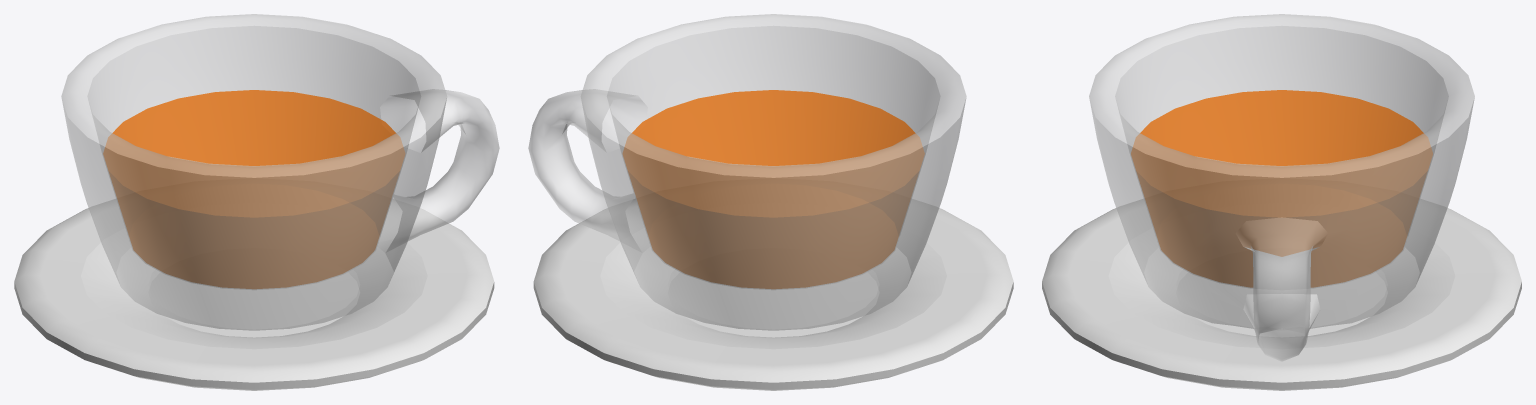
File: TeaCup.fbx
3 views of the same model, side by side, from view 1: azimuth 30°, elevation 25°; view 2: azimuth 150°, elevation 25°; view 3: azimuth 270°, elevation 25° (orthographic).
Visible parts, largest first — view 1: CupOfTea, Plate, Tea; view 2: CupOfTea, Plate, Tea; view 3: CupOfTea, Plate, Tea.
Part boxes in pixels (box(x1,y1,x2,y2)): CupOfTea: box(61, 14, 499, 330); Plate: box(14, 199, 494, 390); Tea: box(103, 90, 404, 288); CupOfTea: box(528, 14, 966, 330); Plate: box(533, 199, 1013, 390); Tea: box(623, 90, 924, 288); CupOfTea: box(1089, 14, 1474, 361); Plate: box(1042, 199, 1521, 390); Tea: box(1131, 90, 1432, 287).
Bounding box in the file's own units: 1.02 × 0.4837 × 0.95.
